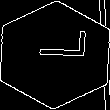L_W: (26, 39, 84, 71)
